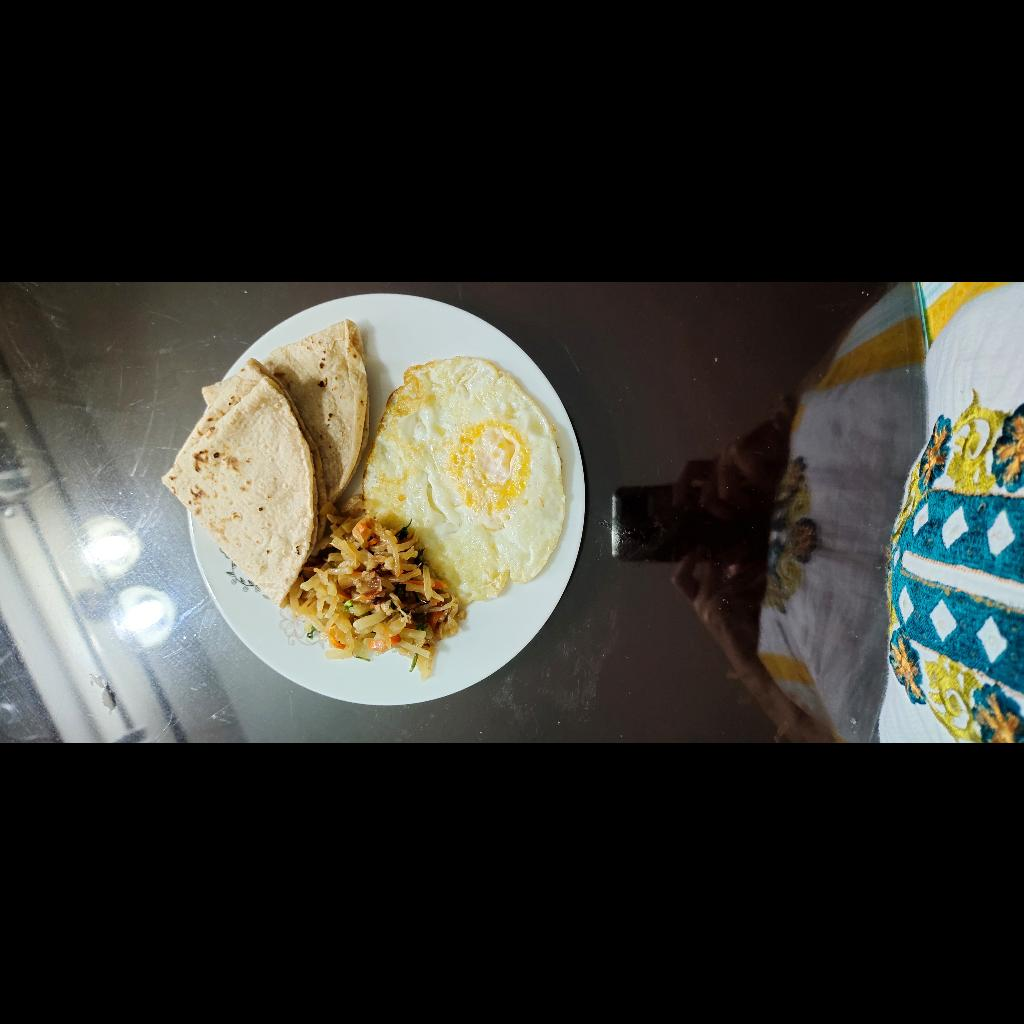egg-poached: (134, 645, 385, 844)
ruti: (133, 437, 425, 650)
vegetable: (62, 559, 234, 746)
